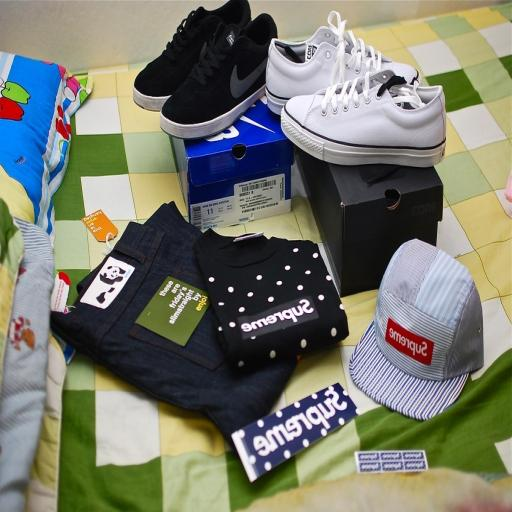shoe: (266, 11, 420, 115), (281, 71, 446, 167), (160, 14, 277, 138), (132, 0, 250, 111)
